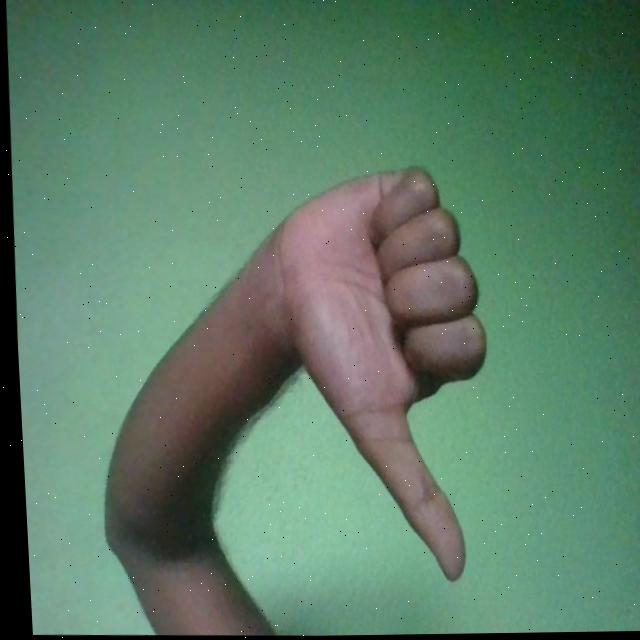Dislike: (263, 164, 495, 587)
